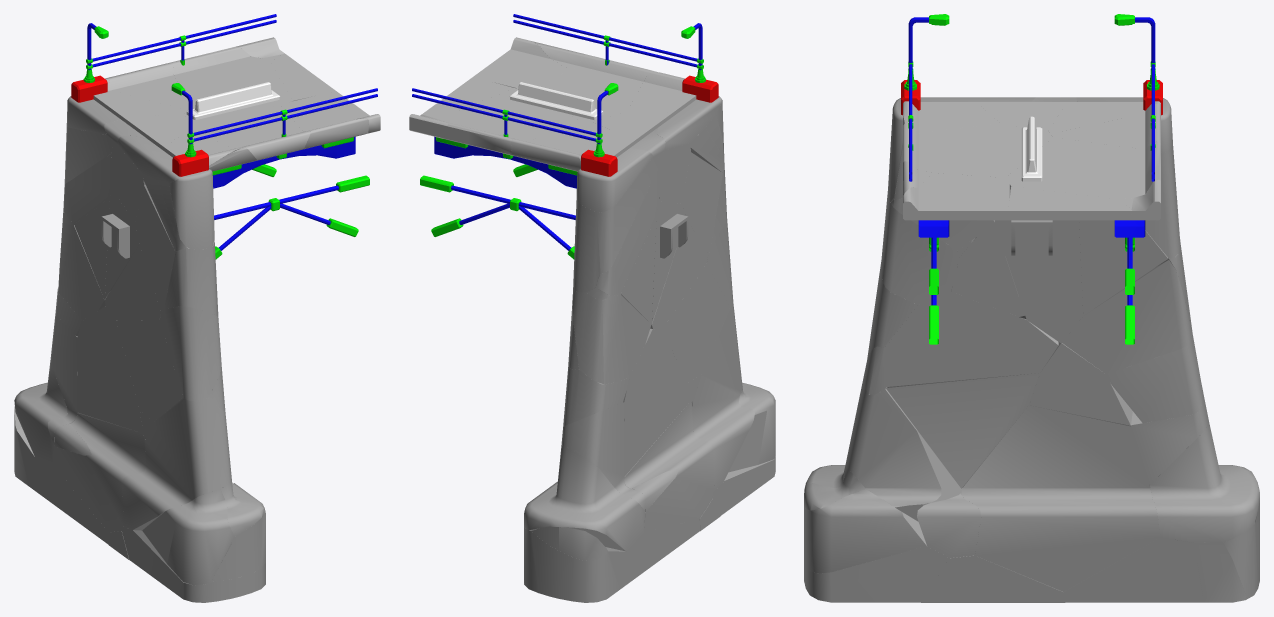
Rendered from SM_Sewer_Bridge_Broken.fbx.
The picture shows the model from 3 angles, left to right: view 1: azimuth 30°, elevation 25°; view 2: azimuth 150°, elevation 25°; view 3: azimuth 270°, elevation 25°; orthographic projection. The views are drawn at different scales.
Parts seen in each view (by area): view 1: pCube25_cell.009, pCube25_cell.050, pCube25_cell.049, pCube25_cell.056, pCube25_cell.022, pCube25_cell.015, pCube25_cell.003, Railings, pCube25_cell.016, pCube25_cell.012, pCube25_cell.047, pCube25_cell.021 (+39 smaller); view 2: pCube25_cell.021, pCube25_cell.050, pCube25_cell.009, pCube25_cell.049, pCube25_cell.008, pCube25_cell.015, pCube25_cell.057, pCube25_cell.047, Railings, pCube25_cell.011, polySurface28, pCube25_cell.026 (+38 smaller); view 3: pCube25_cell.050, pCube25_cell.015, pCube25_cell.038, pCube25_cell.009, pCube25_cell.021, pCube25_cell.030, pCube25_cell.020, pCube25_cell.028, pCube25_cell.034, pCube25_cell.003, pCube25_cell.027, pCube25_cell.049 (+36 smaller).
Boxes of the visible parts, left/top/right/bottom form: pCube25_cell.009: left=122, top=397, right=233, bottom=530; pCube25_cell.050: left=53, top=412, right=145, bottom=532; pCube25_cell.049: left=77, top=306, right=143, bottom=433; pCube25_cell.056: left=142, top=489, right=234, bottom=585; pCube25_cell.022: left=160, top=306, right=221, bottom=400; pCube25_cell.015: left=116, top=320, right=182, bottom=421; pCube25_cell.003: left=122, top=527, right=265, bottom=602; Railings: left=92, top=14, right=377, bottom=141; pCube25_cell.016: left=169, top=169, right=214, bottom=249; pCube25_cell.012: left=164, top=247, right=218, bottom=316; pCube25_cell.047: left=58, top=210, right=104, bottom=320; pCube25_cell.021: left=14, top=360, right=67, bottom=464; pCube25_cell.021: left=524, top=445, right=645, bottom=551; pCube25_cell.050: left=624, top=402, right=714, bottom=532; pCube25_cell.009: left=692, top=304, right=754, bottom=490; pCube25_cell.049: left=623, top=328, right=690, bottom=476; pCube25_cell.008: left=524, top=528, right=626, bottom=602; pCube25_cell.015: left=663, top=264, right=729, bottom=382; pCube25_cell.057: left=561, top=402, right=645, bottom=510; pCube25_cell.047: left=602, top=295, right=651, bottom=384; Railings: left=412, top=14, right=697, bottom=141; pCube25_cell.011: left=597, top=156, right=659, bottom=273; polySurface28: left=473, top=37, right=569, bottom=88; pCube25_cell.026: left=576, top=147, right=653, bottom=212; pCube25_cell.050: left=961, top=405, right=1160, bottom=591; pCube25_cell.015: left=884, top=292, right=1058, bottom=387; pCube25_cell.038: left=886, top=373, right=1039, bottom=488; pCube25_cell.009: left=846, top=362, right=962, bottom=521; pCube25_cell.021: left=1149, top=422, right=1259, bottom=542; pCube25_cell.030: left=1062, top=260, right=1191, bottom=374; pCube25_cell.020: left=804, top=489, right=926, bottom=573; pCube25_cell.028: left=994, top=220, right=1083, bottom=342; pCube25_cell.034: left=1063, top=537, right=1203, bottom=602; pCube25_cell.003: left=804, top=546, right=949, bottom=602; pCube25_cell.027: left=1106, top=334, right=1202, bottom=423; pCube25_cell.049: left=1029, top=342, right=1132, bottom=426.
Size of the model in its own units: 3048 by 6028 by 4418.
